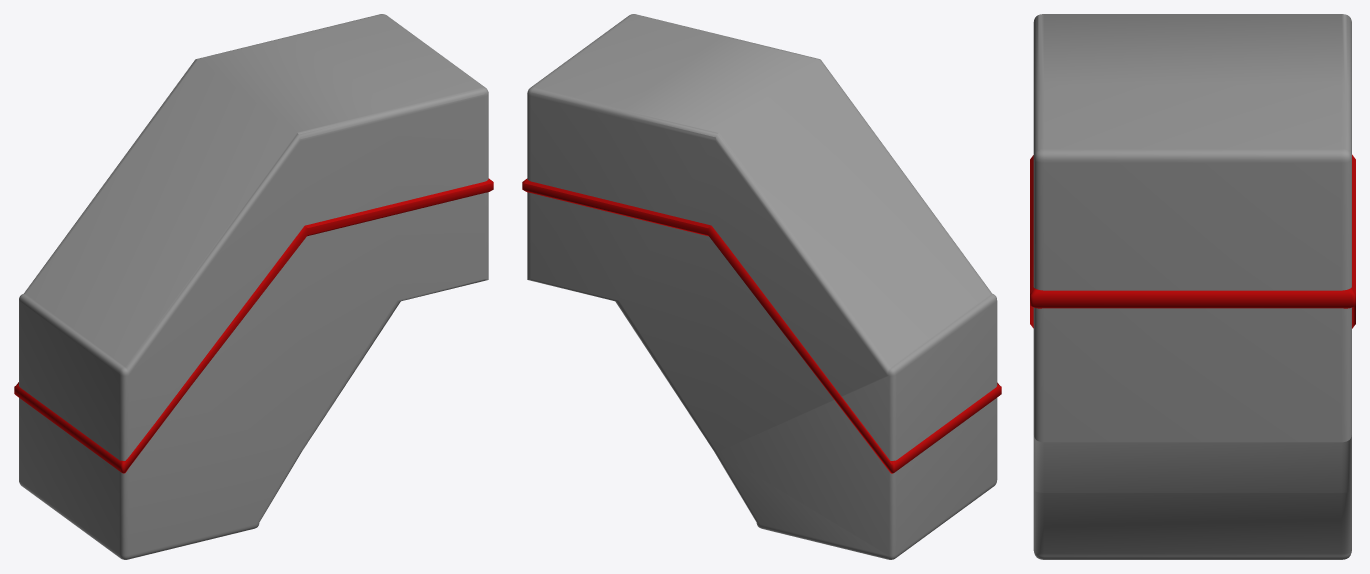
Rendered from Model_StagesBlock_Ramp_Completion.fbx.
3 renders of one model, left to right at view 1: azimuth 30°, elevation 25°; view 2: azimuth 150°, elevation 25°; view 3: azimuth 270°, elevation 25°, orthographic. The views are drawn at different scales.
Parts seen in each view (by area): view 1: Ramp; view 2: Ramp; view 3: Ramp.
Boxes of the visible parts, x1,y1,x2,y2 form: Ramp: (14,14,493,559); Ramp: (522,14,1001,559); Ramp: (1030,14,1355,559).
Size of the model in its own units: 79.8 by 78.77 by 40.28.
